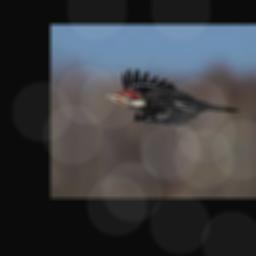Woodpecker: (99, 67, 239, 126)
